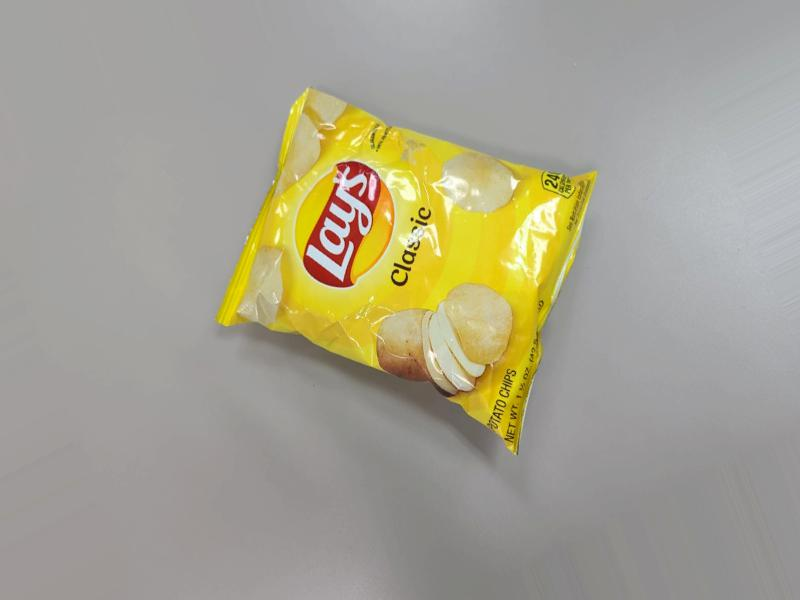lays: (281, 117, 566, 438)
